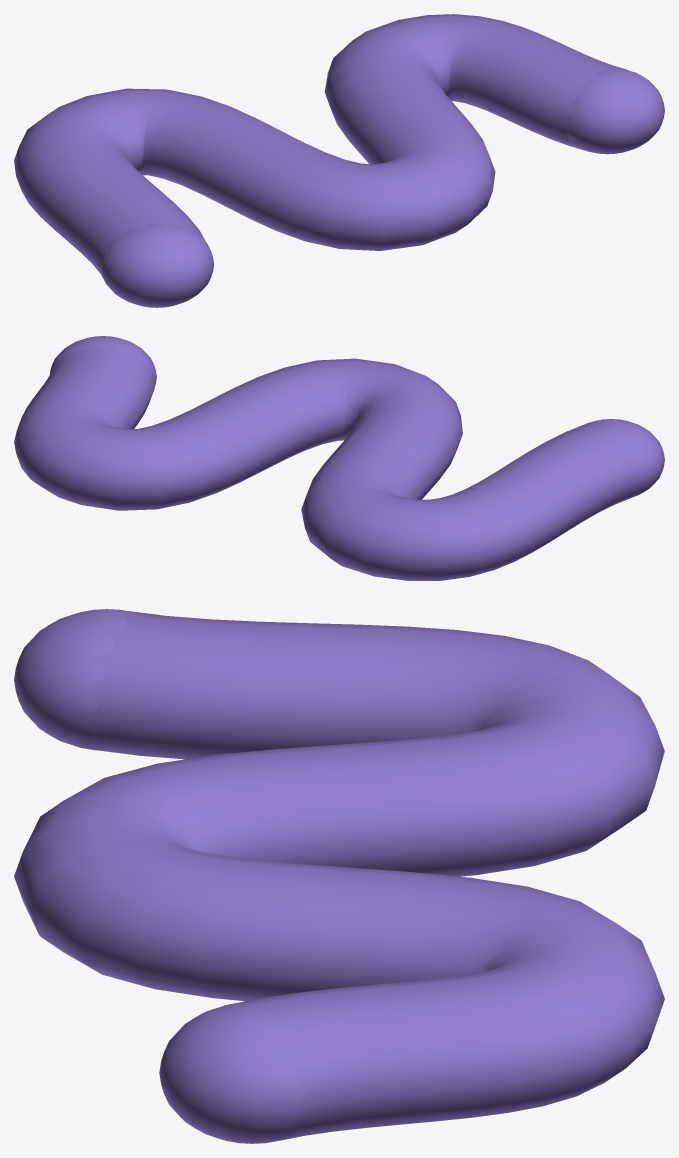
Rendered from wave.glb.
3 renders of one model, top to bottom at view 1: azimuth 30°, elevation 25°; view 2: azimuth 150°, elevation 25°; view 3: azimuth 270°, elevation 25°, orthographic. The views are drawn at different scales.
Parts seen in each view (by area): view 1: Wave, Wave round end, Wave round end.001; view 2: Wave, Wave round end, Wave round end.001; view 3: Wave, Wave round end.001, Wave round end.
Boxes of the visible parts, x1,y1,x2,y2 form: Wave: [14, 14, 625, 276]; Wave round end: [101, 223, 213, 307]; Wave round end.001: [566, 67, 664, 154]; Wave: [14, 343, 645, 580]; Wave round end: [584, 419, 664, 497]; Wave round end.001: [49, 336, 156, 384]; Wave: [14, 611, 664, 1140]; Wave round end.001: [159, 1002, 305, 1143]; Wave round end: [14, 609, 136, 750].
Bounding box in the file's own units: 1.92 × 0.224 × 1.12.
